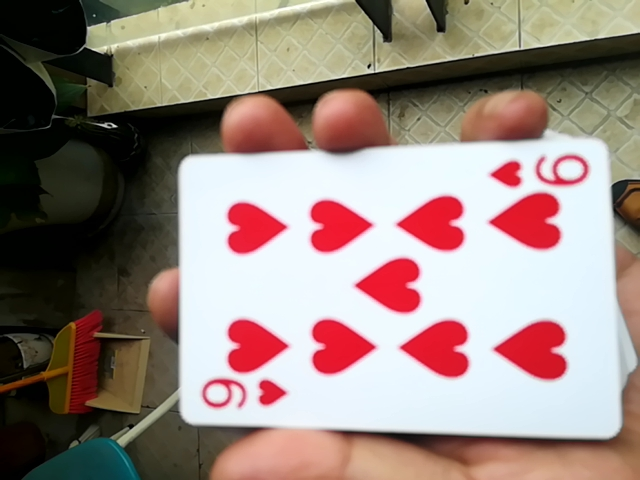hx 9: (167, 144, 616, 443)
